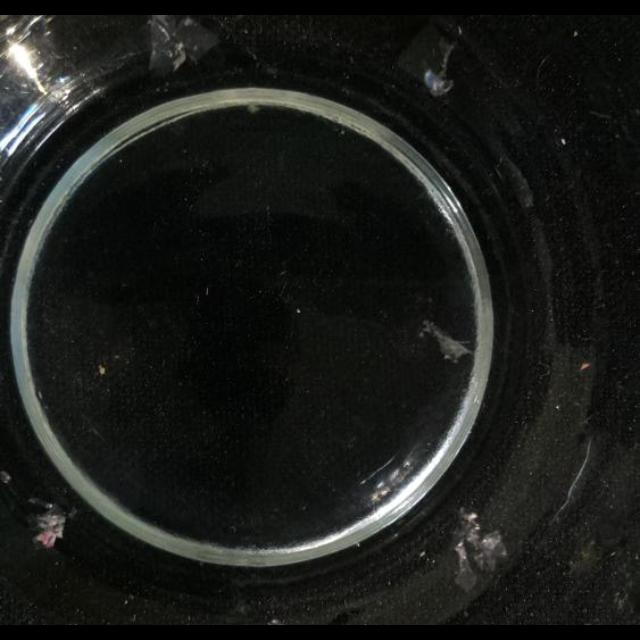Fibre: (452, 510, 508, 592), (420, 318, 474, 362), (372, 458, 418, 506)
microbeads: (268, 618, 282, 624), (204, 286, 210, 296)
